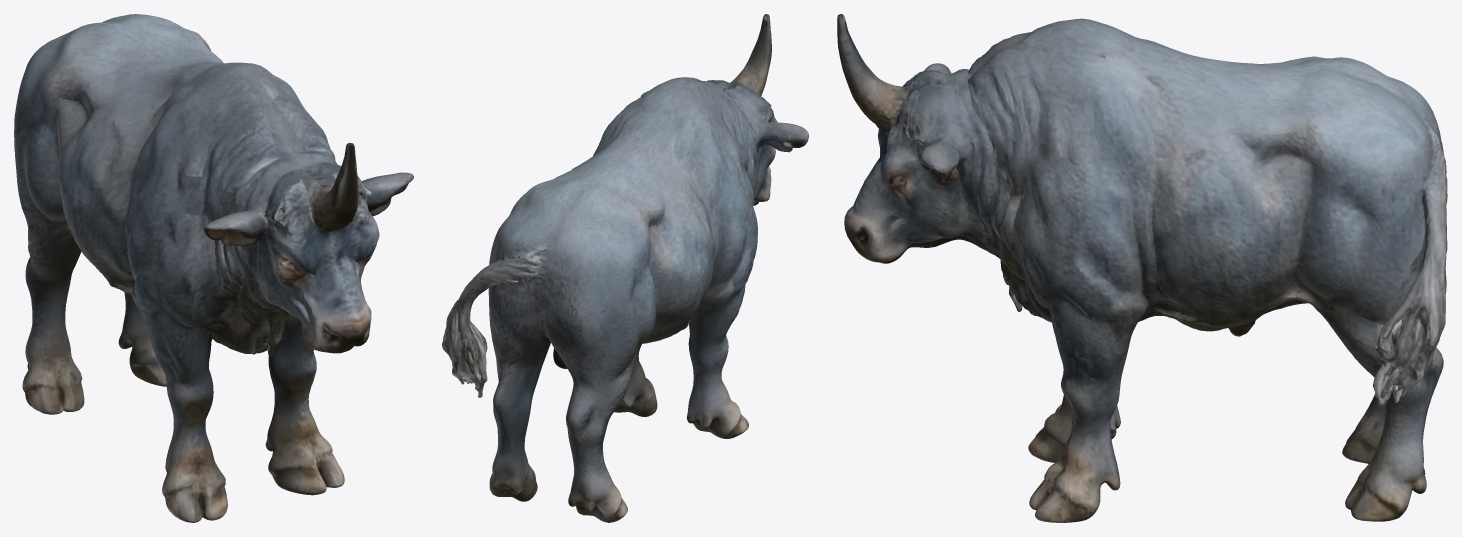
The model's file is xiqu.glb.
3 renders of one model, left to right at view 1: azimuth 30°, elevation 25°; view 2: azimuth 150°, elevation 25°; view 3: azimuth 270°, elevation 25°, orthographic. The views are drawn at different scales.
Visible parts, largest first — view 1: geometry_0; view 2: geometry_0; view 3: geometry_0.
Part boxes in pixels (box(x1,y1,x2,y2)): geometry_0: box(14, 14, 413, 522); geometry_0: box(442, 14, 808, 522); geometry_0: box(837, 14, 1447, 522).
Size of the model in its own units: 2.8 by 5.07 by 6.05.
Materials: 1 (1 with a texture image).
